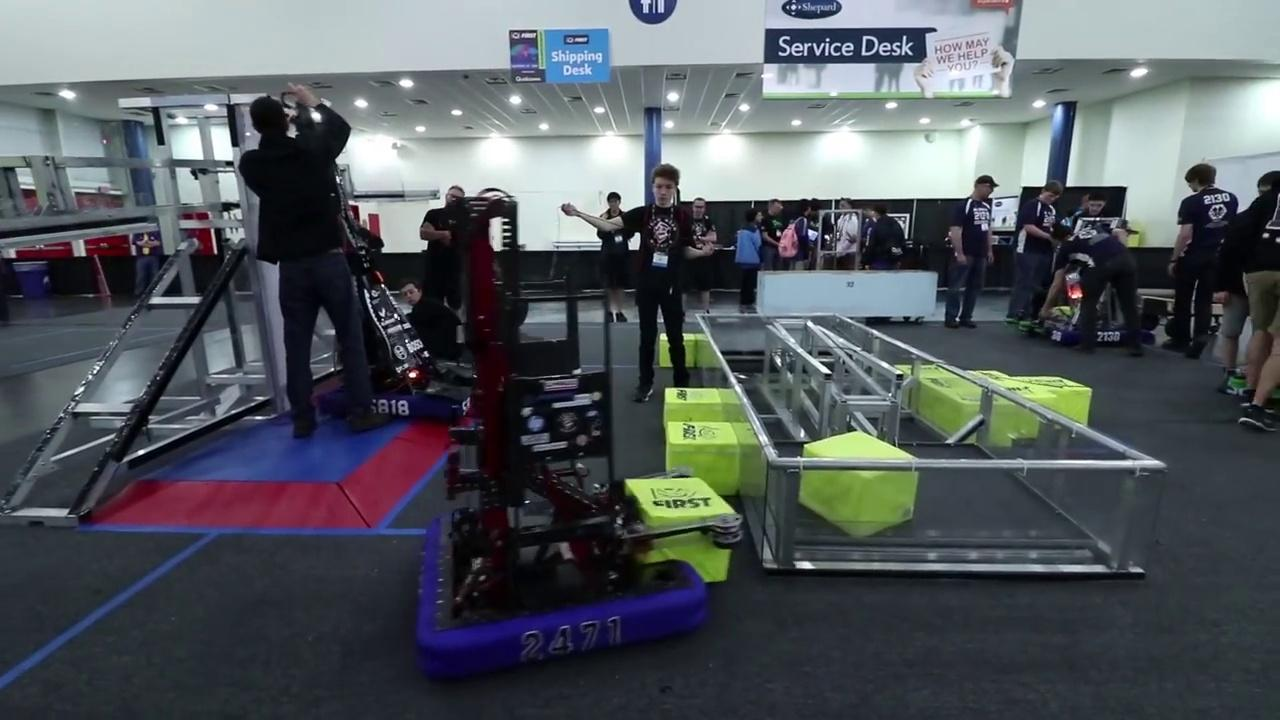robot: (404, 190, 730, 684)
